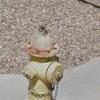Hydrant: (16, 21, 83, 100)
